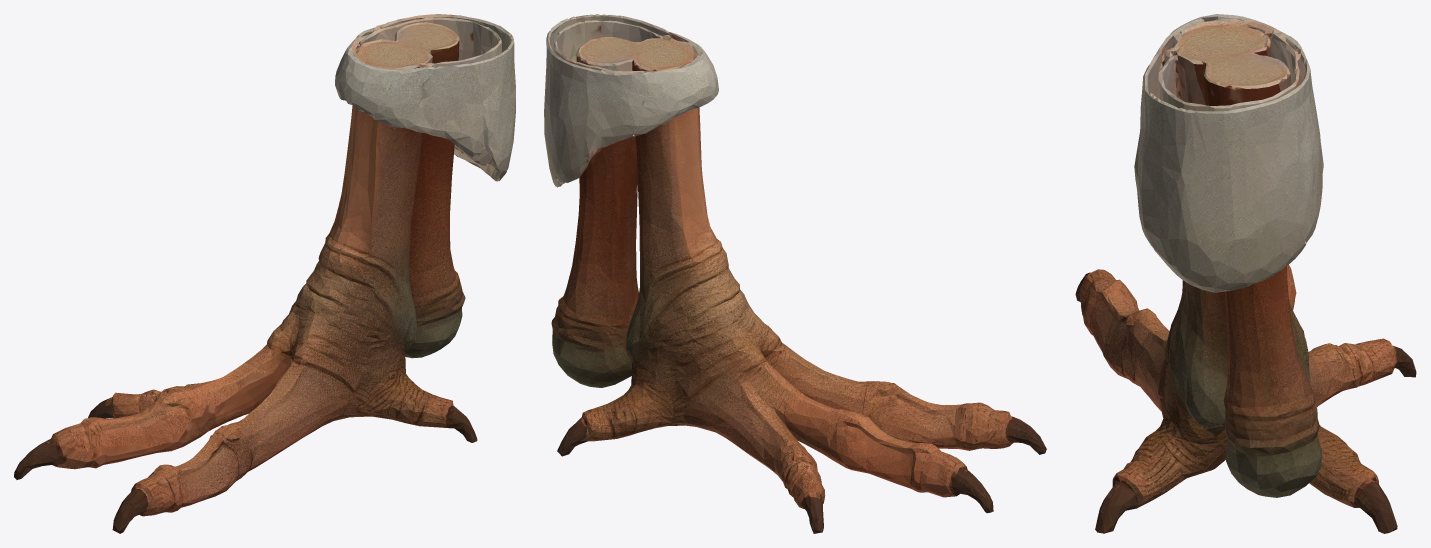
Rendered from foot (88).glb.
The picture shows the model from 3 angles, left to right: view 1: azimuth 30°, elevation 25°; view 2: azimuth 150°, elevation 25°; view 3: azimuth 270°, elevation 25°; orthographic projection. The views are drawn at different scales.
Parts seen in each view (by area): view 1: Hy21_Mesh.obj; view 2: Hy21_Mesh.obj; view 3: Hy21_Mesh.obj.
Boxes of the visible parts, x1,y1,x2,y2 form: Hy21_Mesh.obj: (14,14,515,533); Hy21_Mesh.obj: (544,14,1046,533); Hy21_Mesh.obj: (1075,14,1416,533).
Bounding box in the file's own units: 1.96 × 1.5 × 0.9629.
Materials: 1 (1 with a texture image).
